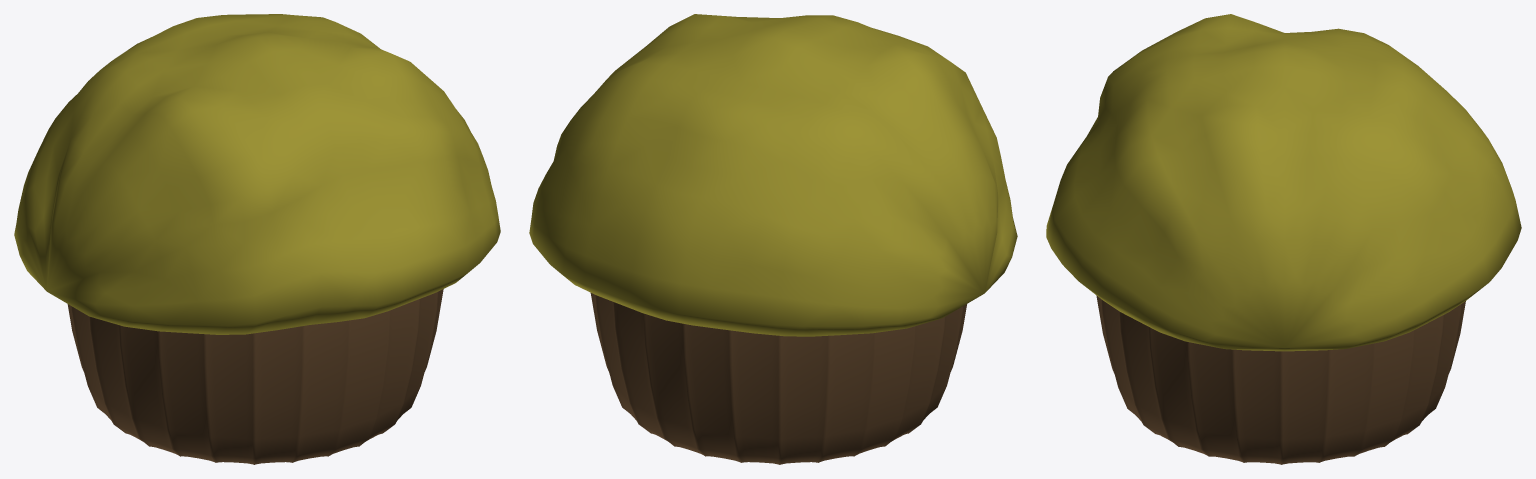
Rendered from Muffin.fbx.
3 views of the same model, side by side, from view 1: azimuth 30°, elevation 25°; view 2: azimuth 150°, elevation 25°; view 3: azimuth 270°, elevation 25° (orthographic). The views are drawn at different scales.
Visible parts, largest first — view 1: Sphere001; view 2: Sphere001; view 3: Sphere001.
Part boxes in pixels (x1,y1,x2,y2): Sphere001: (14,14,500,464); Sphere001: (529,14,1017,464); Sphere001: (1046,14,1521,464).
Size of the model in its own units: 3.67 by 3.1 by 3.7.
